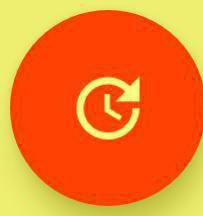ImgButton: (1, 1, 202, 215)
